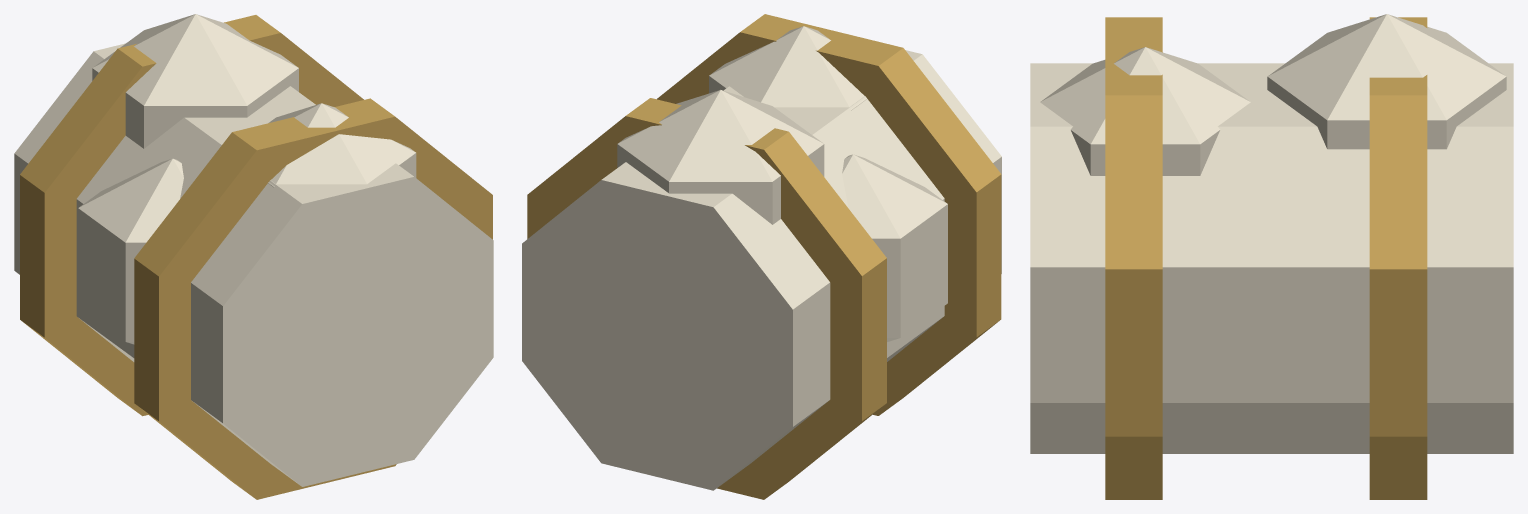
Rendered from villager-cargo-wool.glb.
3 renders of one model, left to right at view 1: azimuth 30°, elevation 25°; view 2: azimuth 150°, elevation 25°; view 3: azimuth 270°, elevation 25°, orthographic. The views are drawn at different scales.
Visible parts, largest first — view 1: villager-cargo-wool; view 2: villager-cargo-wool; view 3: villager-cargo-wool.
Boxes of the visible parts, x1,y1,x2,y2 form: villager-cargo-wool: (14,14,493,499); villager-cargo-wool: (522,14,1001,499); villager-cargo-wool: (1030,14,1513,499).
Bounding box in the file's own units: 0.7761 × 0.848 × 0.84.
1 material, 1 textured.
